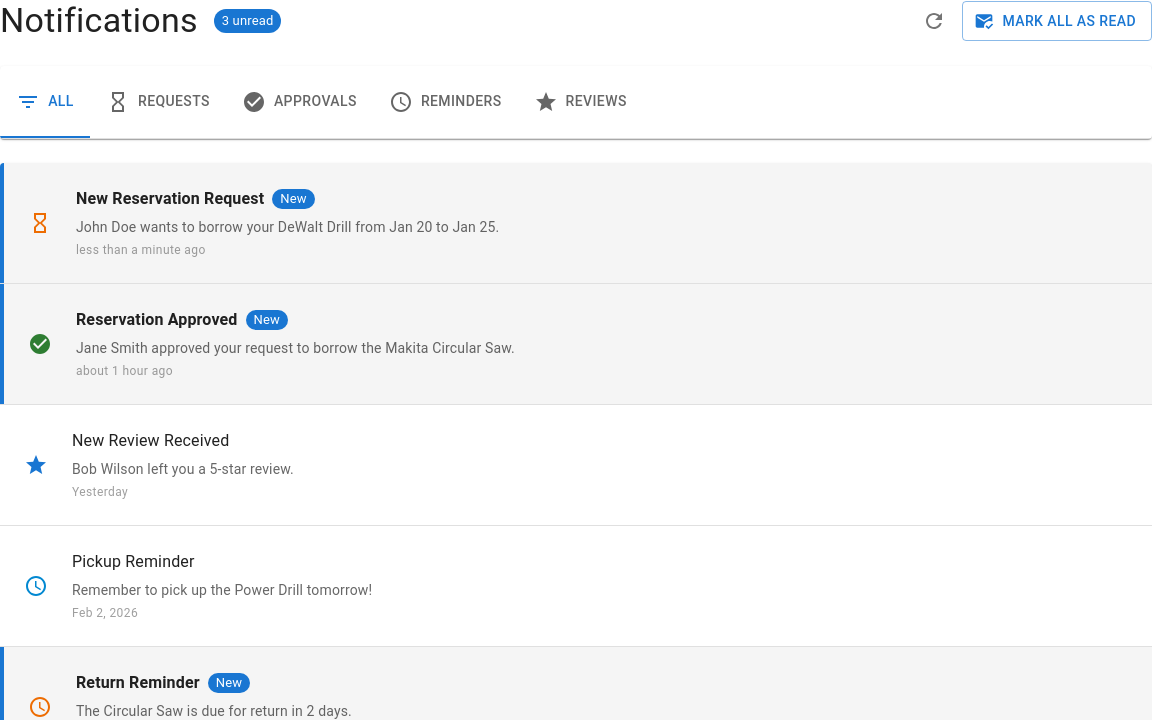
Test case: Notifications Page › Filtering › should filter notifications when tab is clicked
Expected: the heading "New Reservation Request" is shown, [76, 185, 264, 213]
// Click on Reviews tab
Click the tab "Reviews".
click(580, 102)  # box [518, 66, 643, 138]
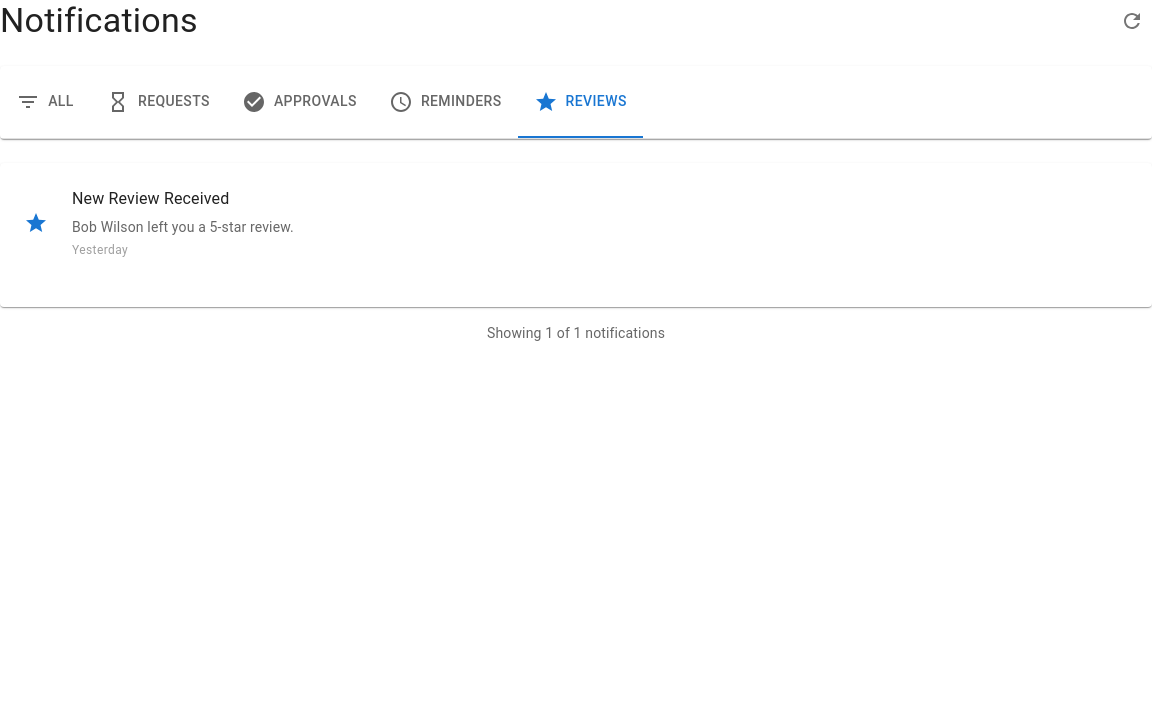
Expected: the heading "New Review Received" is shown, [72, 185, 229, 213]
Expected: the heading "New Reservation Request" is gone
